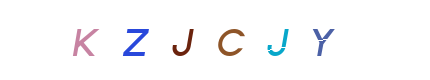C: (175, 0, 255, 80)
J: (170, 0, 250, 80), (205, 0, 285, 80)
K: (76, 0, 156, 80)
Y: (239, 0, 319, 80)
Z: (164, 0, 244, 80)
